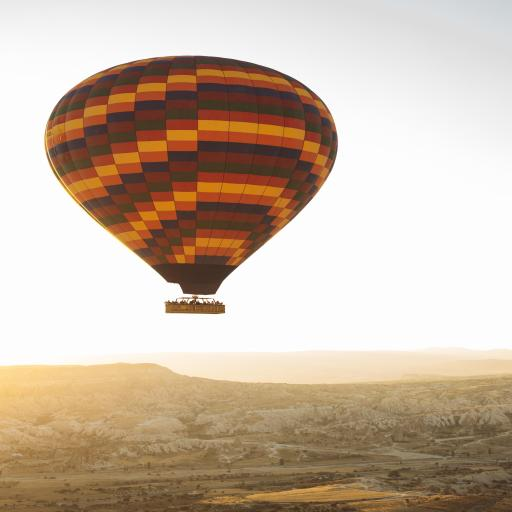hot air ballon: (43, 55, 339, 314)
